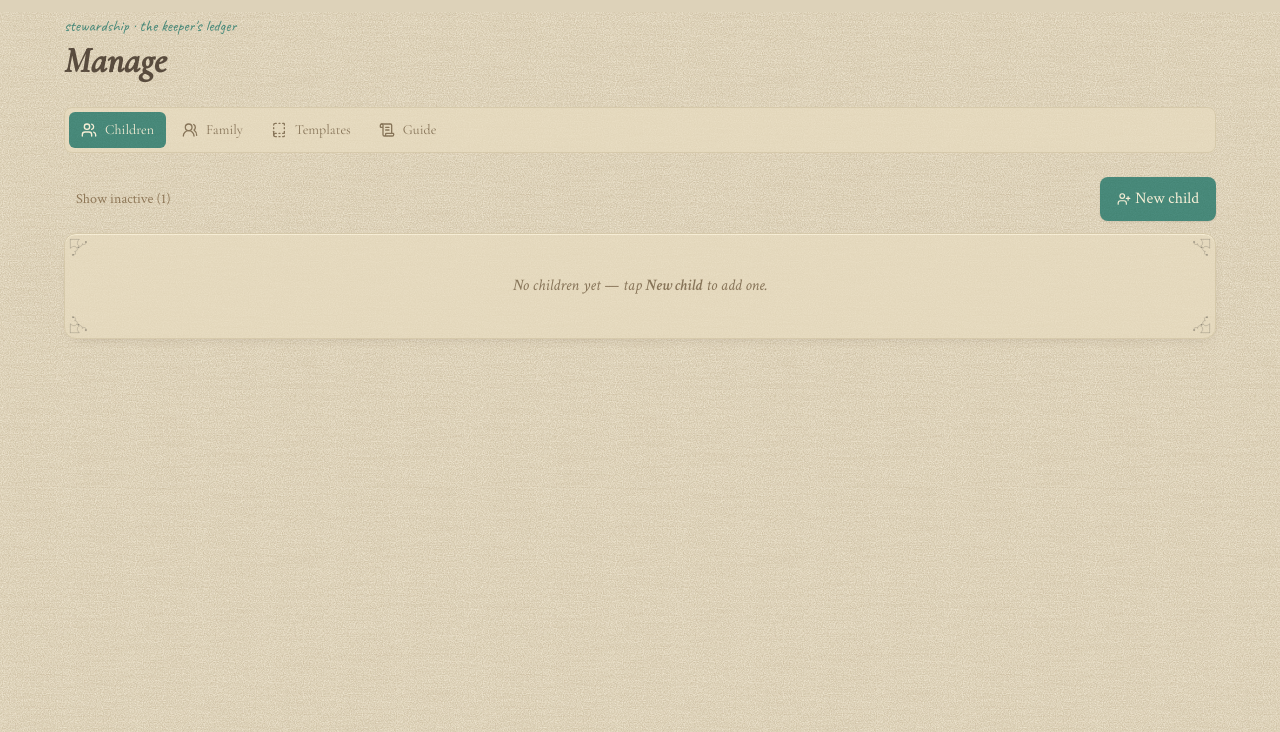
Test: Manage — Children action trio › shows an Inactive chip on inactive children when "Show inactive" is toggled
Expected: the text "No children yet — tap New child to add one." is shown, [64,233,1216,339]
Expected: the text "Old Kid" is not shown
Note: Toggle to show inactive.
Click the button "Show inactive (1)". click: (123,199)
box: [64,177,183,221]
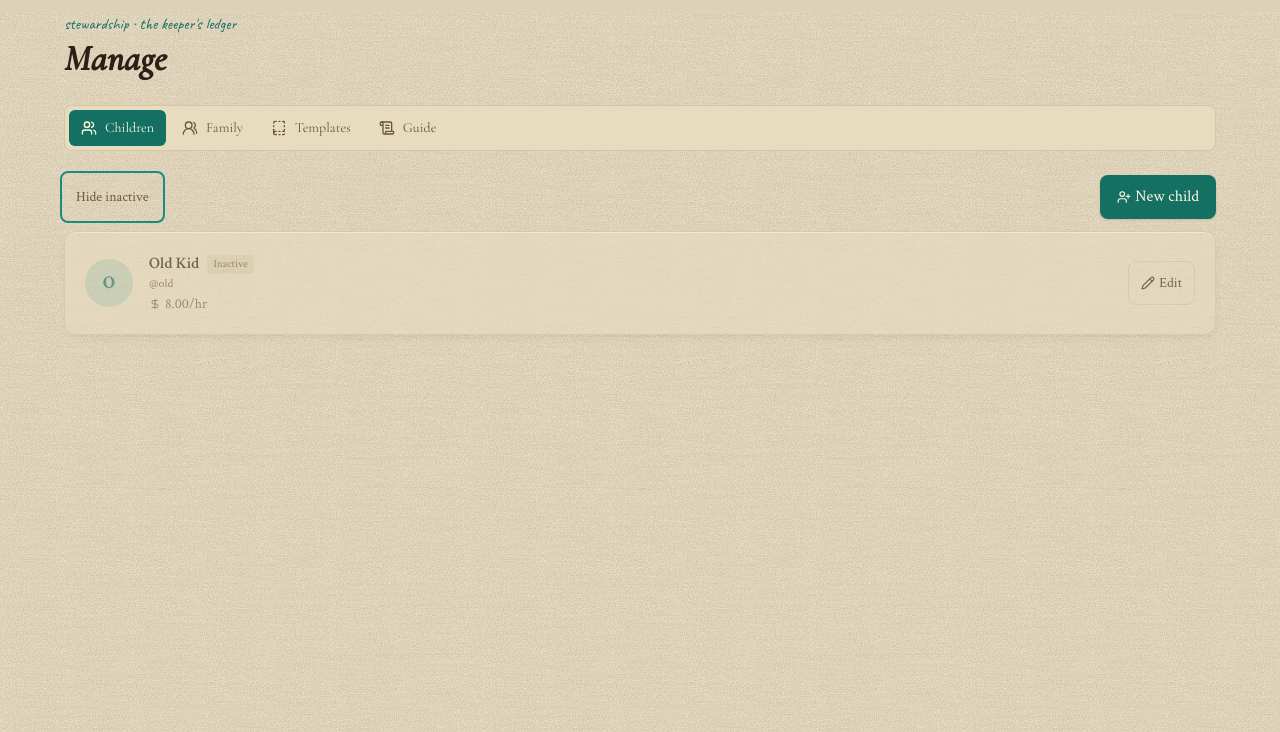
Expected: the text "Old Kid" is shown, [149,253,199,274]
Expected: the text "Inactive" is shown, [207,254,254,274]
